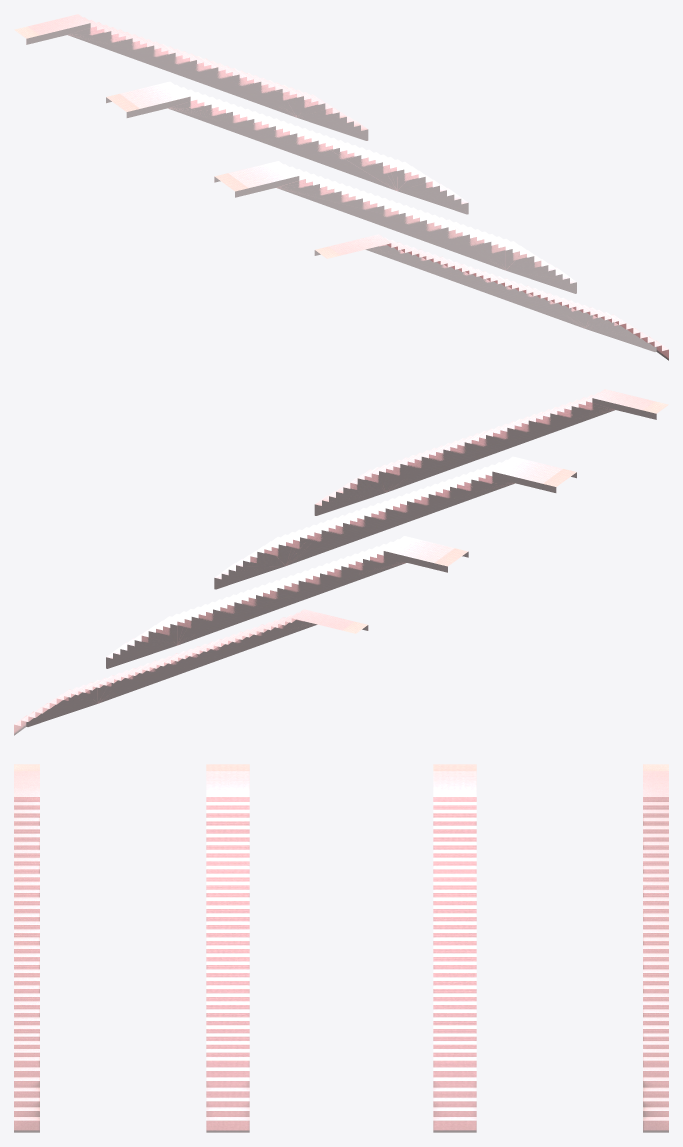
3 views of the same model, one above another, from view 1: azimuth 30°, elevation 25°; view 2: azimuth 150°, elevation 25°; view 3: azimuth 270°, elevation 25° (orthographic). The views are drawn at different scales.
Visible parts, largest first — view 1: 室内-二楼地毯; view 2: 室内-二楼地毯; view 3: 室内-二楼地毯.
Part boxes in pixels (x1,y1,x2,y2): 室内-二楼地毯: (14, 14, 668, 360); 室内-二楼地毯: (14, 389, 668, 735); 室内-二楼地毯: (14, 764, 668, 1132).
Bounding box in the file's own units: 14.38 × 7.45 × 22.8.
